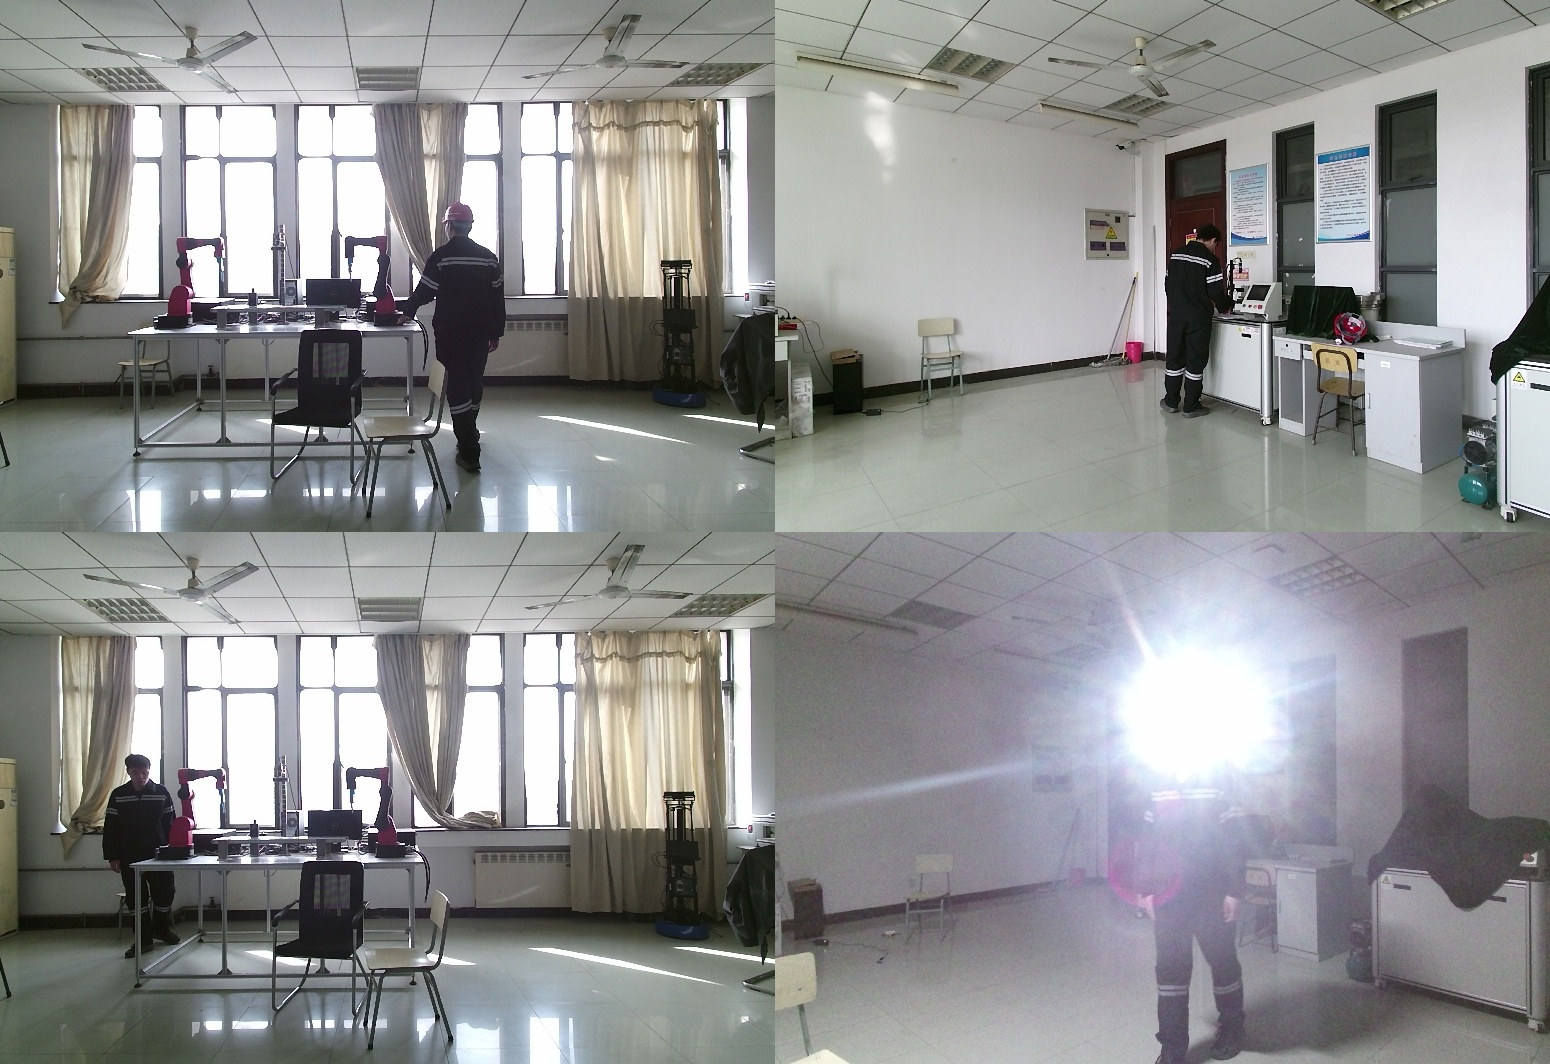person: (1145, 705, 1274, 1064), (408, 203, 516, 478), (96, 754, 185, 957), (1155, 223, 1237, 426)
